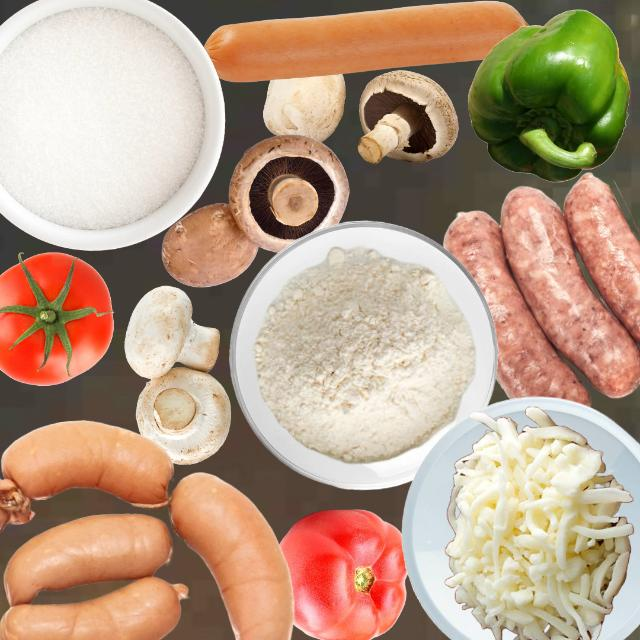Flour: (253, 244, 475, 463)
Sugar: (6, 19, 204, 242)
